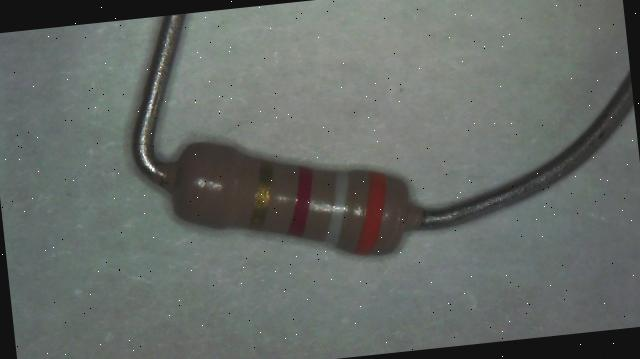gold: (243, 162, 278, 230)
orange: (345, 171, 393, 256)
red: (280, 165, 318, 237)
resistor: (151, 123, 425, 275)
white: (317, 171, 353, 247)
